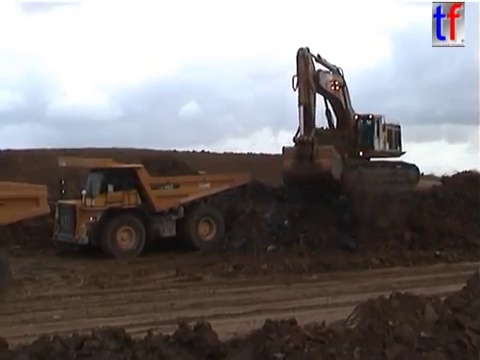excavator: (278, 44, 422, 196)
truck: (52, 153, 252, 260), (1, 177, 53, 292)
